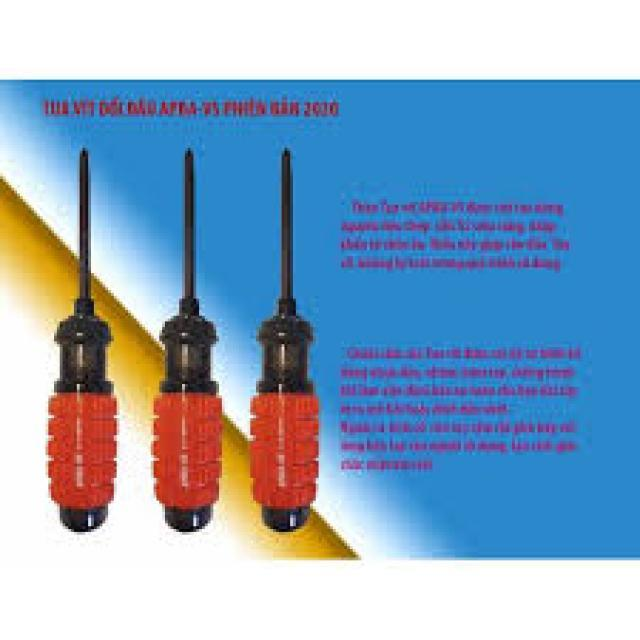screwdriver: (244, 140, 324, 530), (146, 145, 226, 532), (41, 143, 118, 544)
